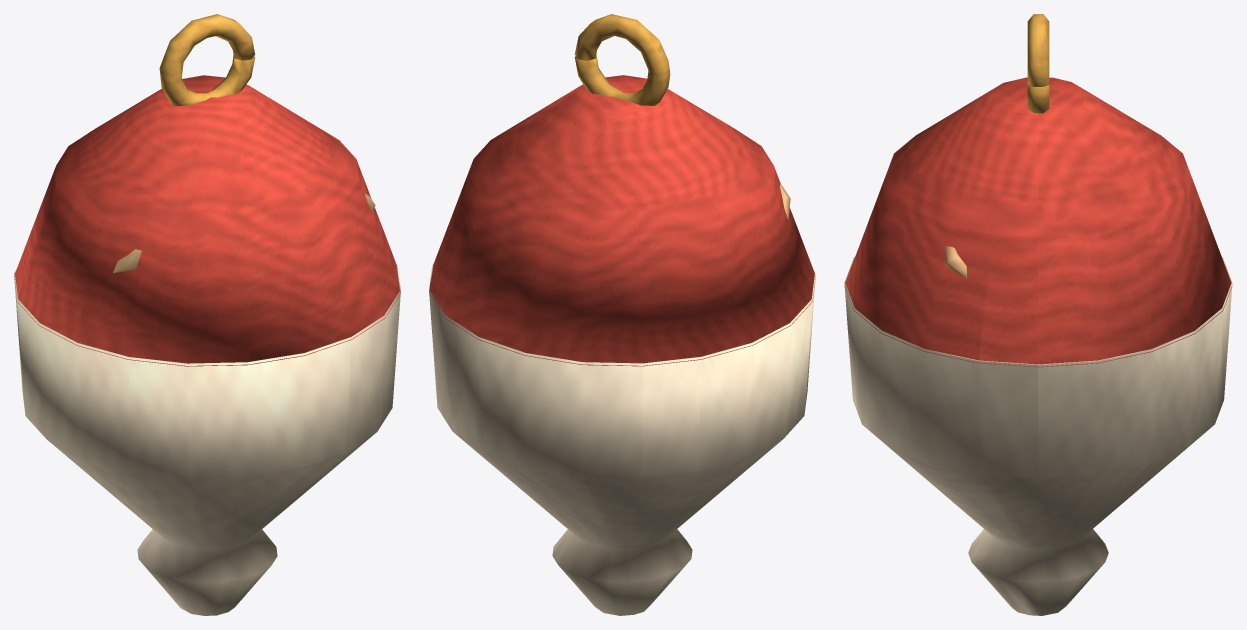
Rendered from fishing_float.glb.
The picture shows the model from 3 angles, left to right: view 1: azimuth 30°, elevation 25°; view 2: azimuth 150°, elevation 25°; view 3: azimuth 270°, elevation 25°; orthographic projection.
Parts seen in each view (by area): view 1: Body; view 2: Body; view 3: Body.
Part boxes in pixels (<box>): Body: <box>14,14,400,615</box>; Body: <box>429,14,815,615</box>; Body: <box>844,14,1232,615</box>.
Bounding box in the file's own units: 0.138 × 0.2291 × 0.138.
1 material, 1 textured.
